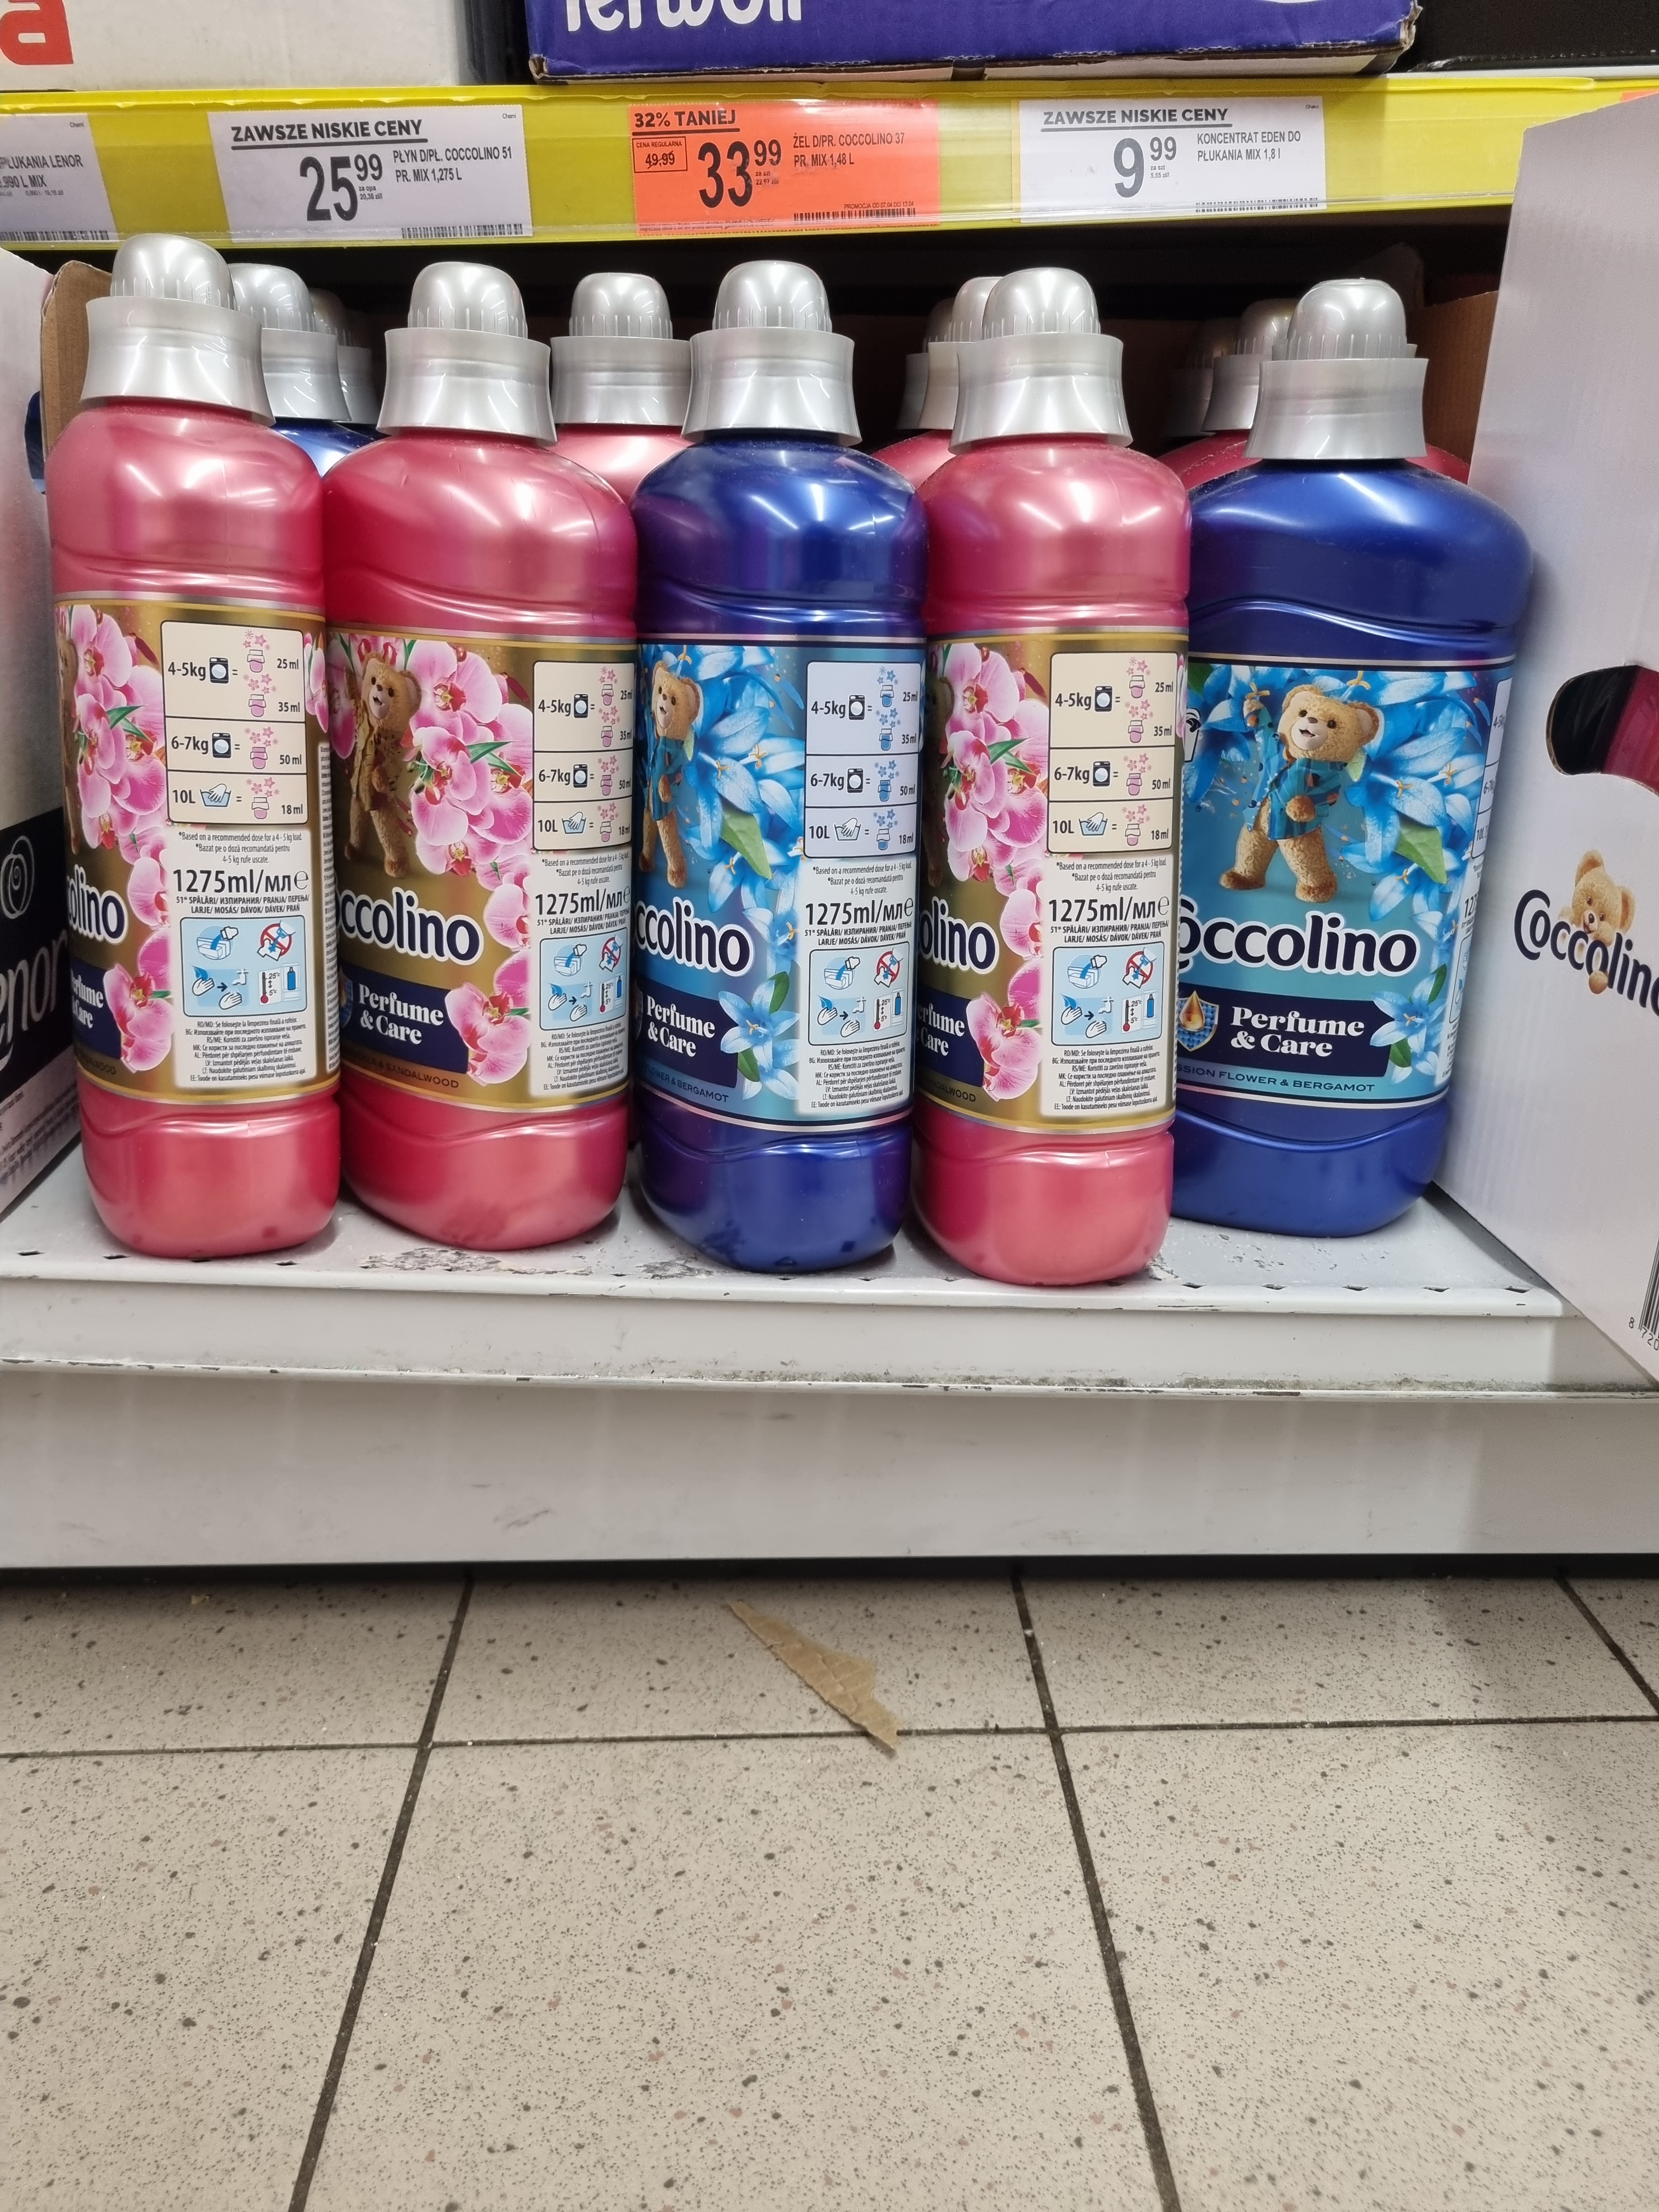cocolino: (631, 444, 932, 1282), (45, 395, 335, 1254), (1182, 467, 1502, 1235), (317, 439, 617, 1254), (913, 451, 1185, 1282)
